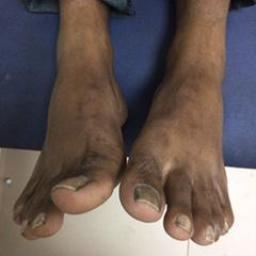Front View -Both Feet-: (10, 8, 240, 246)
